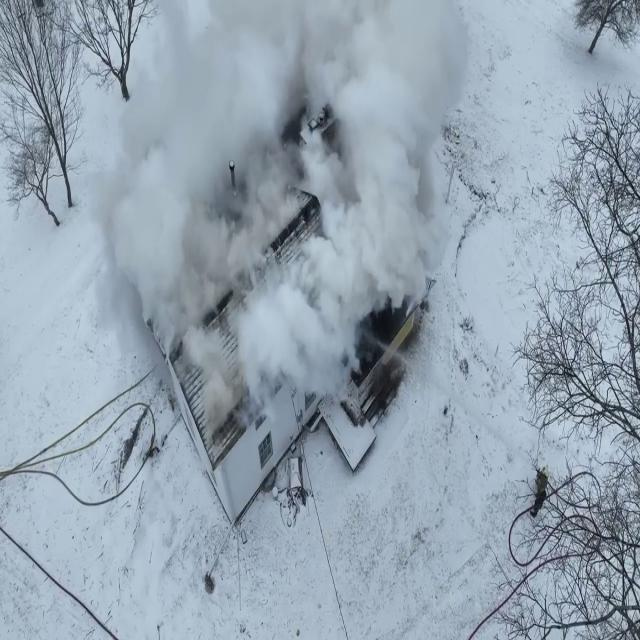Smoke: (26, 0, 478, 458)
